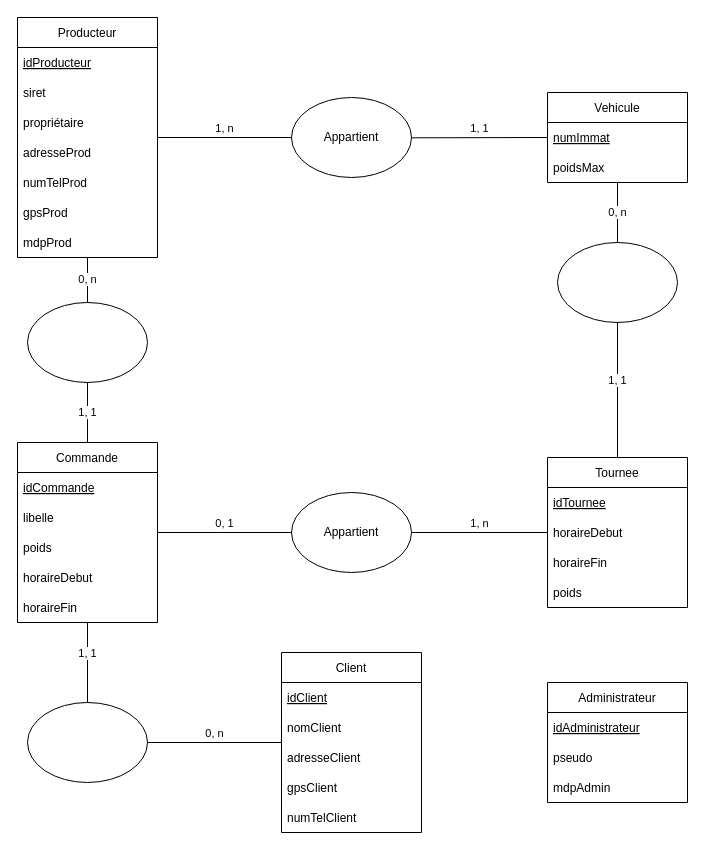
Some shapes in this 705 by 850 pixel diagram are drawn without their labels. Here are the shapes that lost their labels. From the top down, the centre of each, then its label:
the point at 617,282: Utilise
the point at 87,342: Livre
the point at 87,742: effectue
